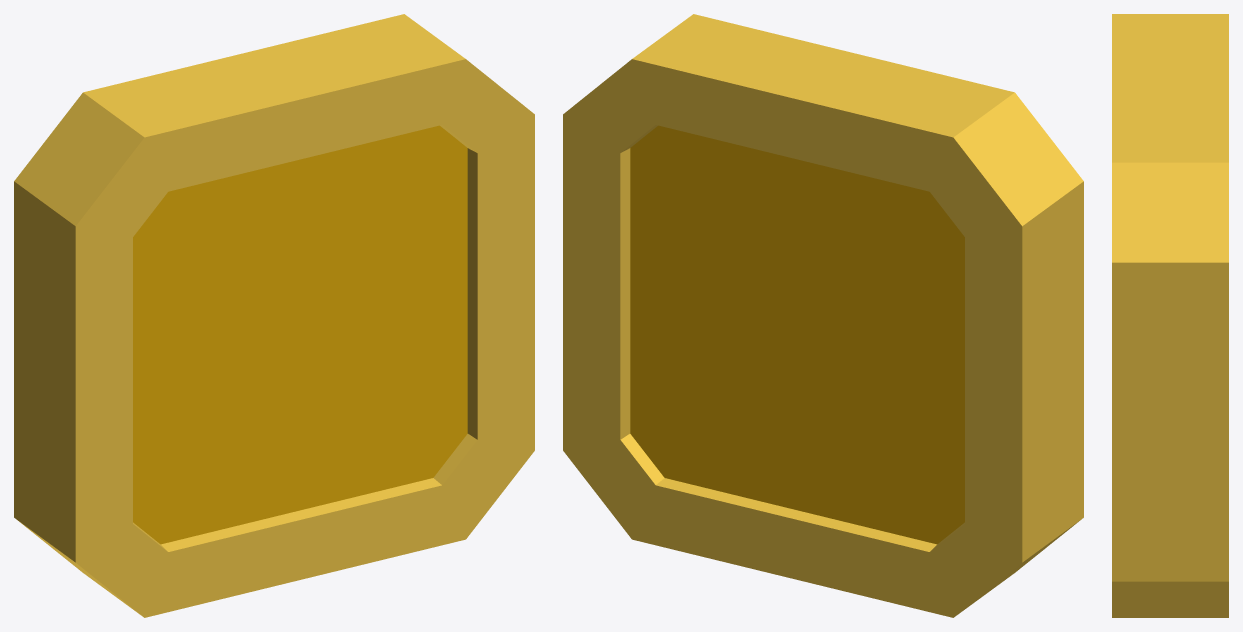
File: SM_Coin_01.fbx
The picture shows the model from 3 angles, left to right: view 1: azimuth 30°, elevation 25°; view 2: azimuth 150°, elevation 25°; view 3: azimuth 270°, elevation 25°; orthographic projection. The views are drawn at different scales.
Parts seen in each view (by area): view 1: pCube475; view 2: pCube475; view 3: pCube475.
Part boxes in pixels (bbox=[...]): pCube475: bbox=[14, 14, 534, 617]; pCube475: bbox=[563, 14, 1083, 617]; pCube475: bbox=[1112, 14, 1228, 617].
Bounding box in the file's own units: 35.23 × 35.23 × 8.19.
